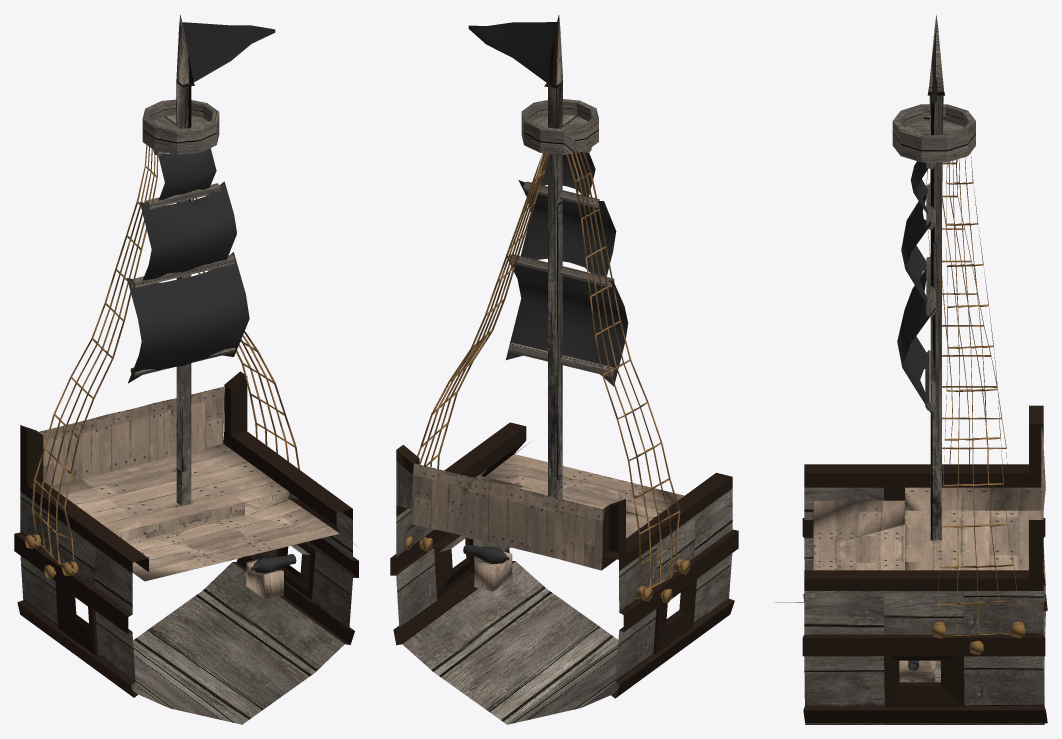
File: Windward-Shipwreck3.glb
3 renders of one model, left to right at view 1: azimuth 30°, elevation 25°; view 2: azimuth 150°, elevation 25°; view 3: azimuth 270°, elevation 25°, orthographic. The views are drawn at different scales.
Visible parts, largest first — view 1: Plane; view 2: Plane; view 3: Plane.
Part boxes in pixels (box(x1,y1,x2,y2)): Plane: box(14, 15, 358, 724); Plane: box(390, 15, 738, 724); Plane: box(775, 15, 1047, 724).
Size of the model in its own units: 3.32 by 8.72 by 3.12.
5 materials, 2 textured.
